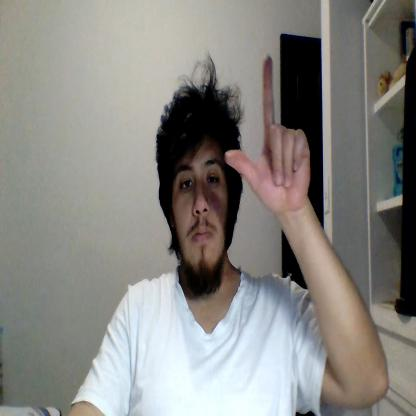L: (226, 56, 310, 212)
